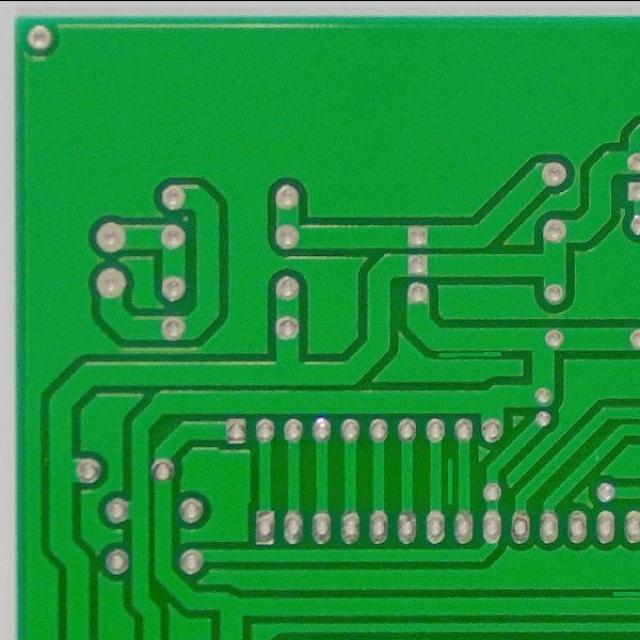Spurious_Cooper: (442, 453, 457, 509), (436, 349, 505, 358), (610, 590, 640, 598)
